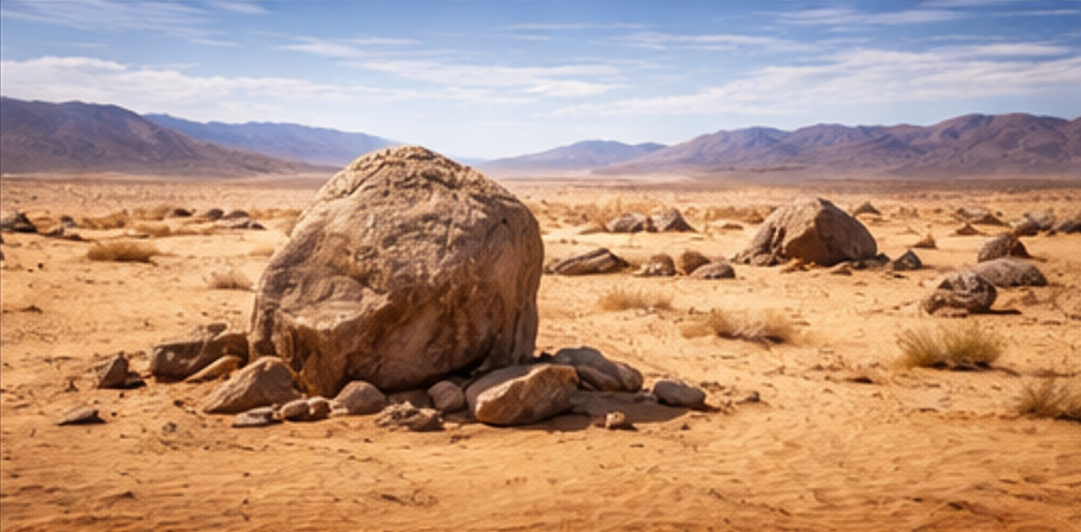rocks: (250, 146, 542, 393), (735, 196, 875, 264), (465, 364, 577, 424), (149, 322, 246, 379), (203, 356, 299, 413), (552, 346, 641, 390), (921, 271, 996, 314), (548, 248, 627, 275), (972, 256, 1045, 285), (374, 402, 441, 430), (333, 382, 386, 414), (98, 351, 142, 387), (652, 379, 704, 409), (978, 233, 1029, 260), (426, 380, 465, 412), (633, 252, 676, 276), (232, 406, 280, 426), (650, 209, 694, 230), (605, 213, 654, 231), (57, 406, 104, 424), (676, 250, 710, 274), (688, 260, 733, 278), (889, 249, 921, 270), (0, 212, 37, 230)
